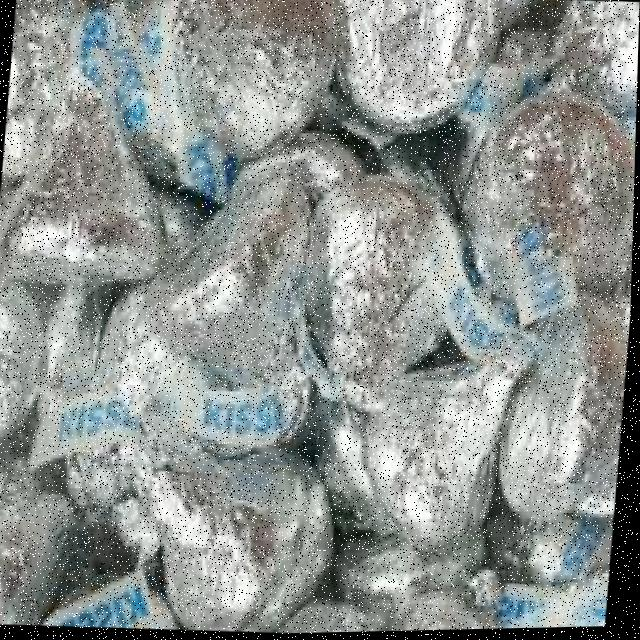kisses: (122, 160, 357, 494), (446, 57, 638, 372), (0, 6, 190, 308), (159, 428, 344, 634), (126, 0, 346, 168), (356, 357, 527, 553), (330, 0, 503, 151)
